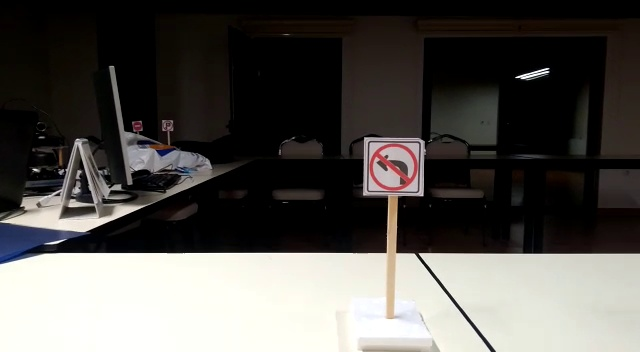sola_donulmez: (367, 144, 418, 193)
